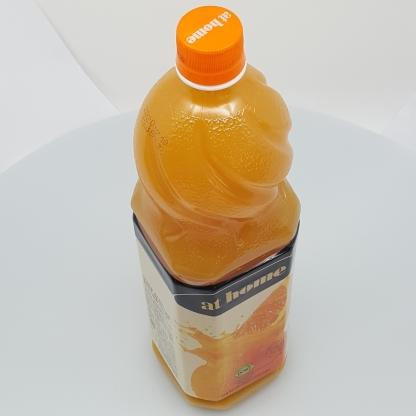-------1-5L: (131, 6, 301, 410)
